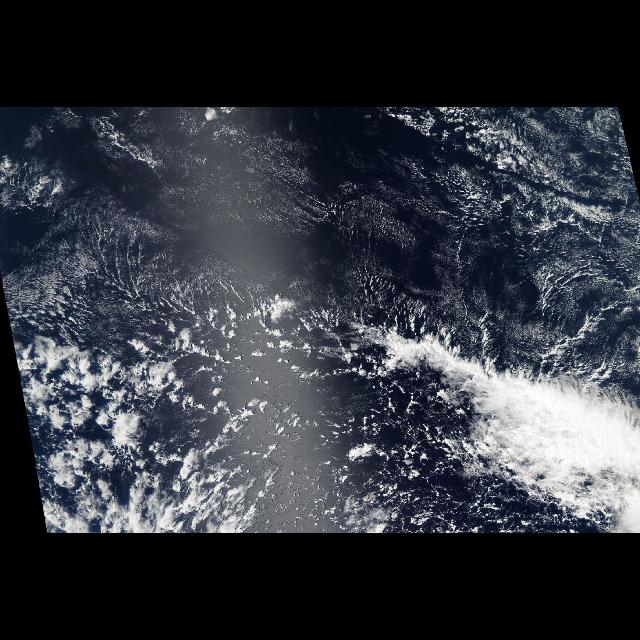Fish: (252, 274, 470, 392)
Flower: (12, 336, 234, 526)
Gravel: (472, 114, 632, 352), (246, 374, 419, 530)
Sugar: (6, 134, 308, 328)
